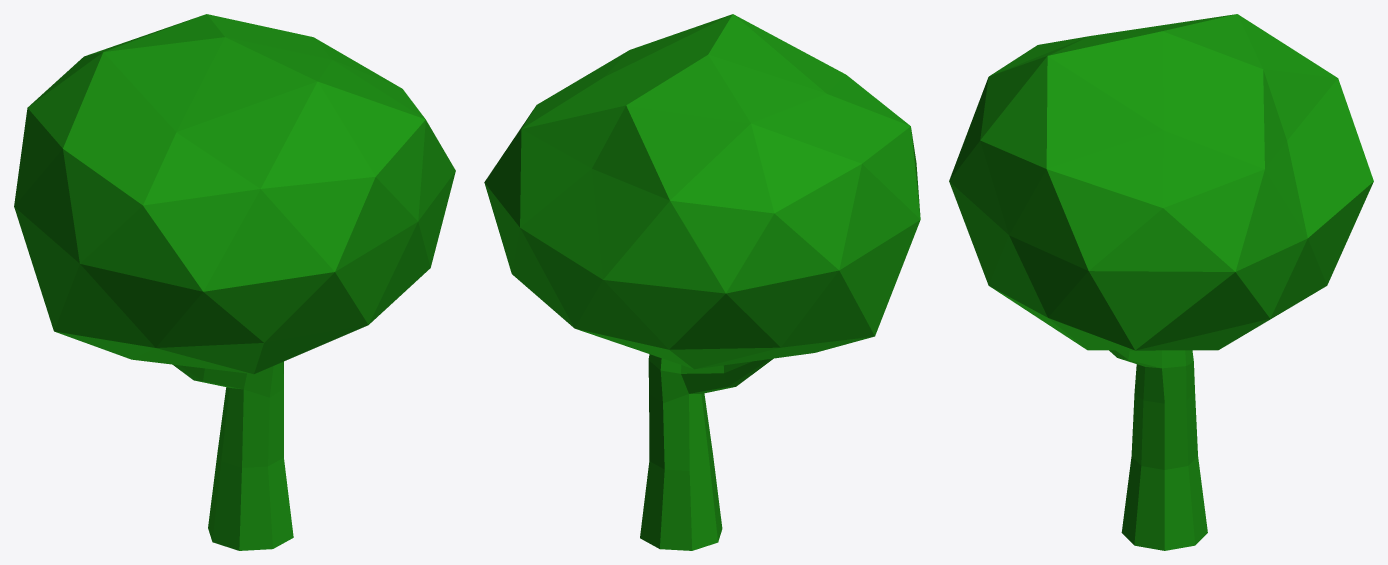
The model's file is tree2_animated.FBX.
3 renders of one model, left to right at view 1: azimuth 30°, elevation 25°; view 2: azimuth 150°, elevation 25°; view 3: azimuth 270°, elevation 25°, orthographic. The views are drawn at different scales.
Visible parts, largest first — view 1: Tree2; view 2: Tree2; view 3: Tree2.
Boxes of the visible parts, x1,y1,x2,y2 form: Tree2: [14, 14, 455, 550]; Tree2: [484, 14, 920, 550]; Tree2: [949, 14, 1373, 550].
Size of the model in its own units: 115 by 146 by 115.
